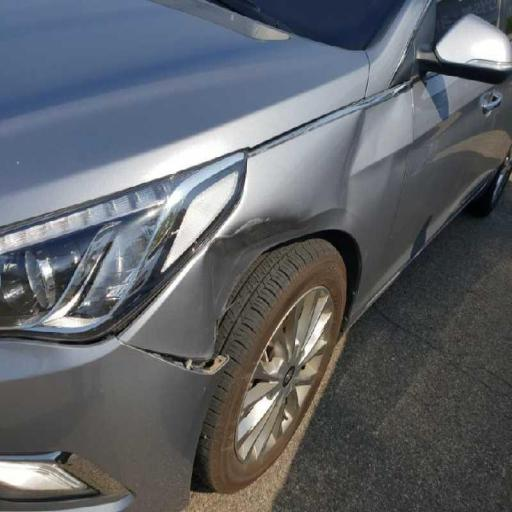dent: (94, 165, 292, 419)
